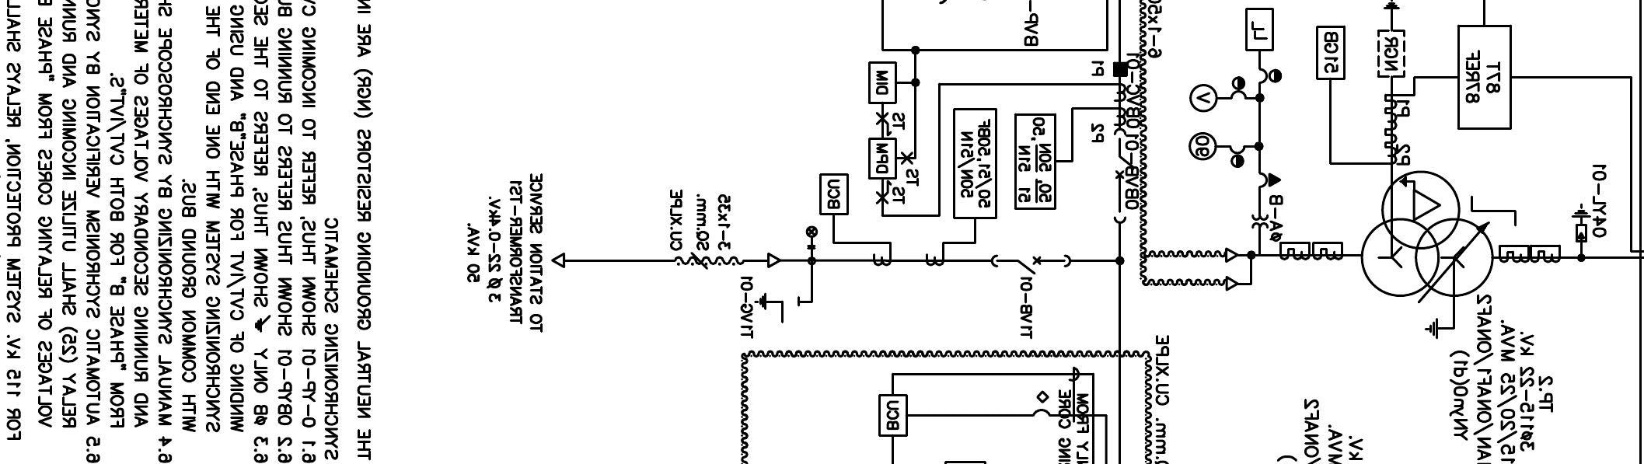11522_tx_ynyn0d1: (1360, 170, 1494, 297)
115_la: (1571, 203, 1592, 243)
22_breaker: (1113, 128, 1134, 224), (991, 253, 1072, 275)
22_gs: (754, 292, 800, 324)
22_ll: (805, 225, 819, 250)
BCU: (878, 394, 908, 438), (819, 173, 849, 216)
DIM: (868, 62, 897, 105)
DPM: (868, 137, 897, 180)
LL: (1246, 7, 1274, 52)
terminator_double: (1225, 247, 1253, 291)
terminator_single: (766, 252, 781, 269), (551, 252, 566, 269)
v_m: (1188, 84, 1218, 113)
